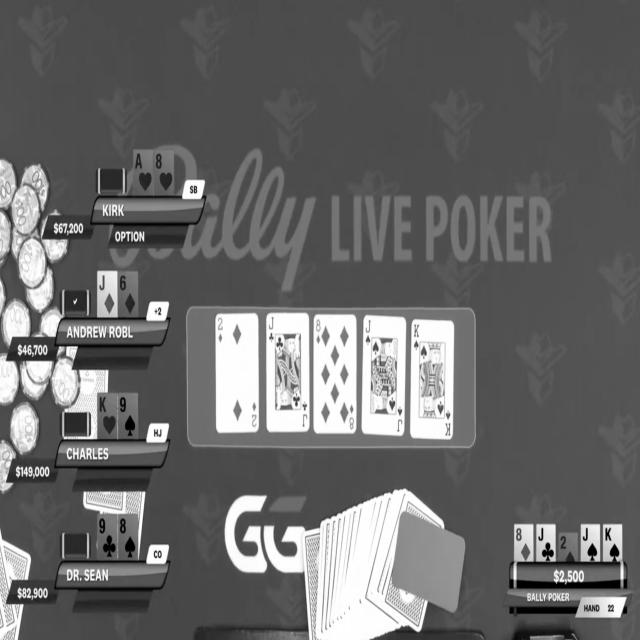2D: (557, 532, 579, 563)
6D: (118, 273, 138, 319)
8D: (514, 525, 534, 563)
8H: (153, 149, 173, 197)
8S: (120, 511, 139, 562)
9C: (97, 512, 119, 562)
9S: (117, 393, 138, 441)
AH: (133, 151, 154, 197)
JC: (537, 525, 556, 565)
JD: (98, 271, 118, 317)
JS: (582, 524, 601, 562)
KH: (97, 392, 118, 440)
KS: (603, 524, 622, 563)
